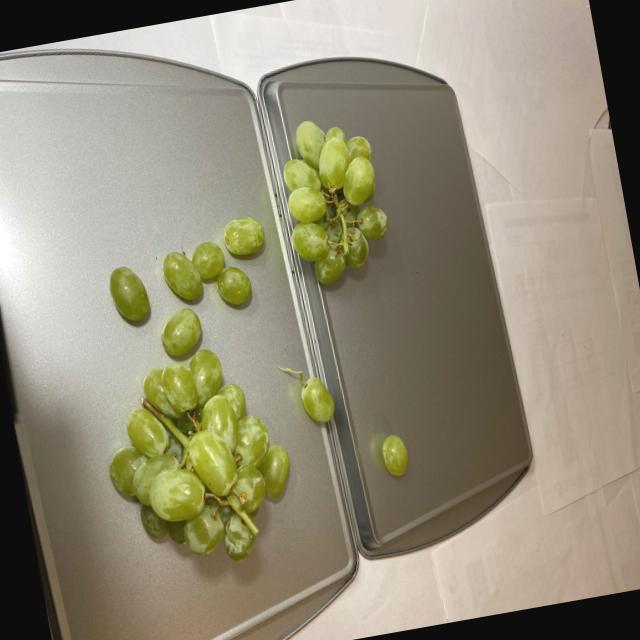grapes: (70, 215, 319, 582), (272, 106, 399, 295), (294, 362, 340, 438), (377, 426, 412, 482)
